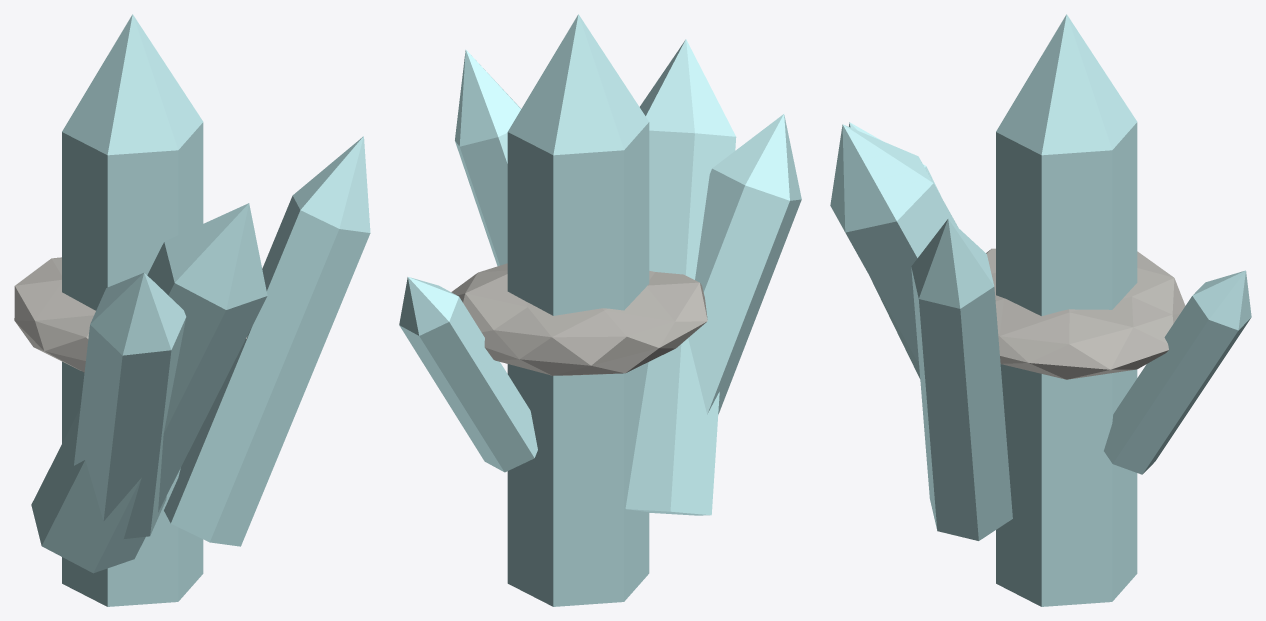
Rendered from crystal_small.glb.
3 renders of one model, left to right at view 1: azimuth 30°, elevation 25°; view 2: azimuth 150°, elevation 25°; view 3: azimuth 270°, elevation 25°, orthographic.
Parts seen in each view (by area): view 1: crystal_small; view 2: crystal_small; view 3: crystal_small.
Boxes of the visible parts, left/top/right/bottom form: crystal_small: left=14, top=14, right=370, bottom=606; crystal_small: left=399, top=14, right=801, bottom=606; crystal_small: left=830, top=14, right=1251, bottom=606.
Bounding box in the file's own units: 0.7887 × 1.4 × 0.9469.
